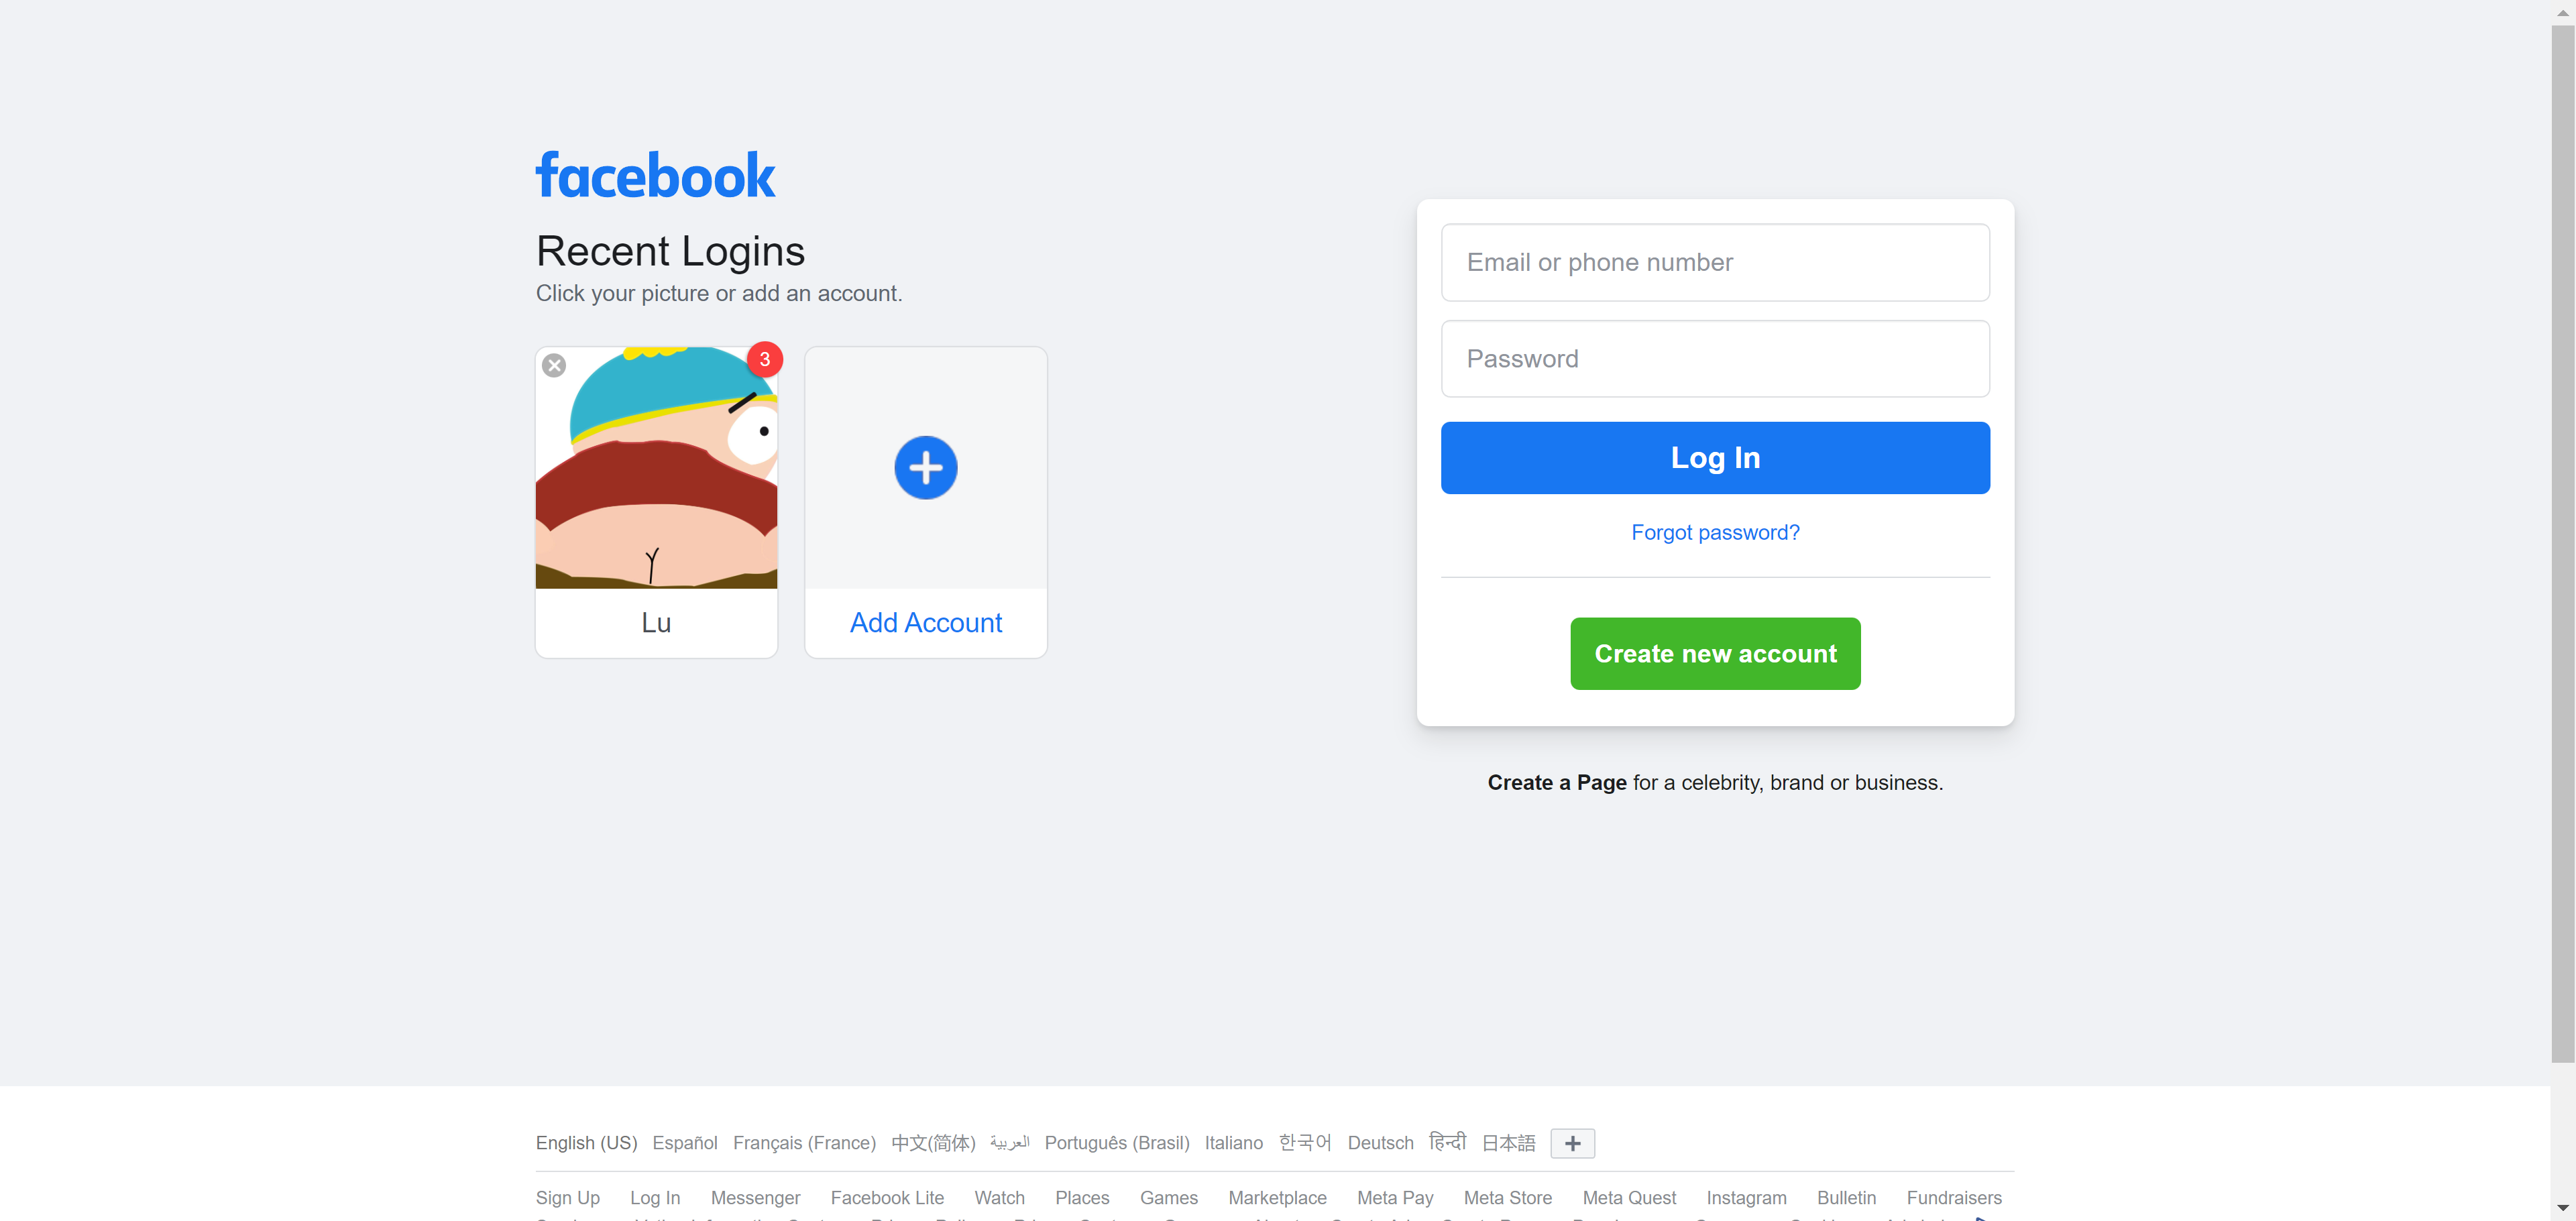login_button: (1441, 422, 1989, 493)
login_form: (1431, 214, 1999, 501)
